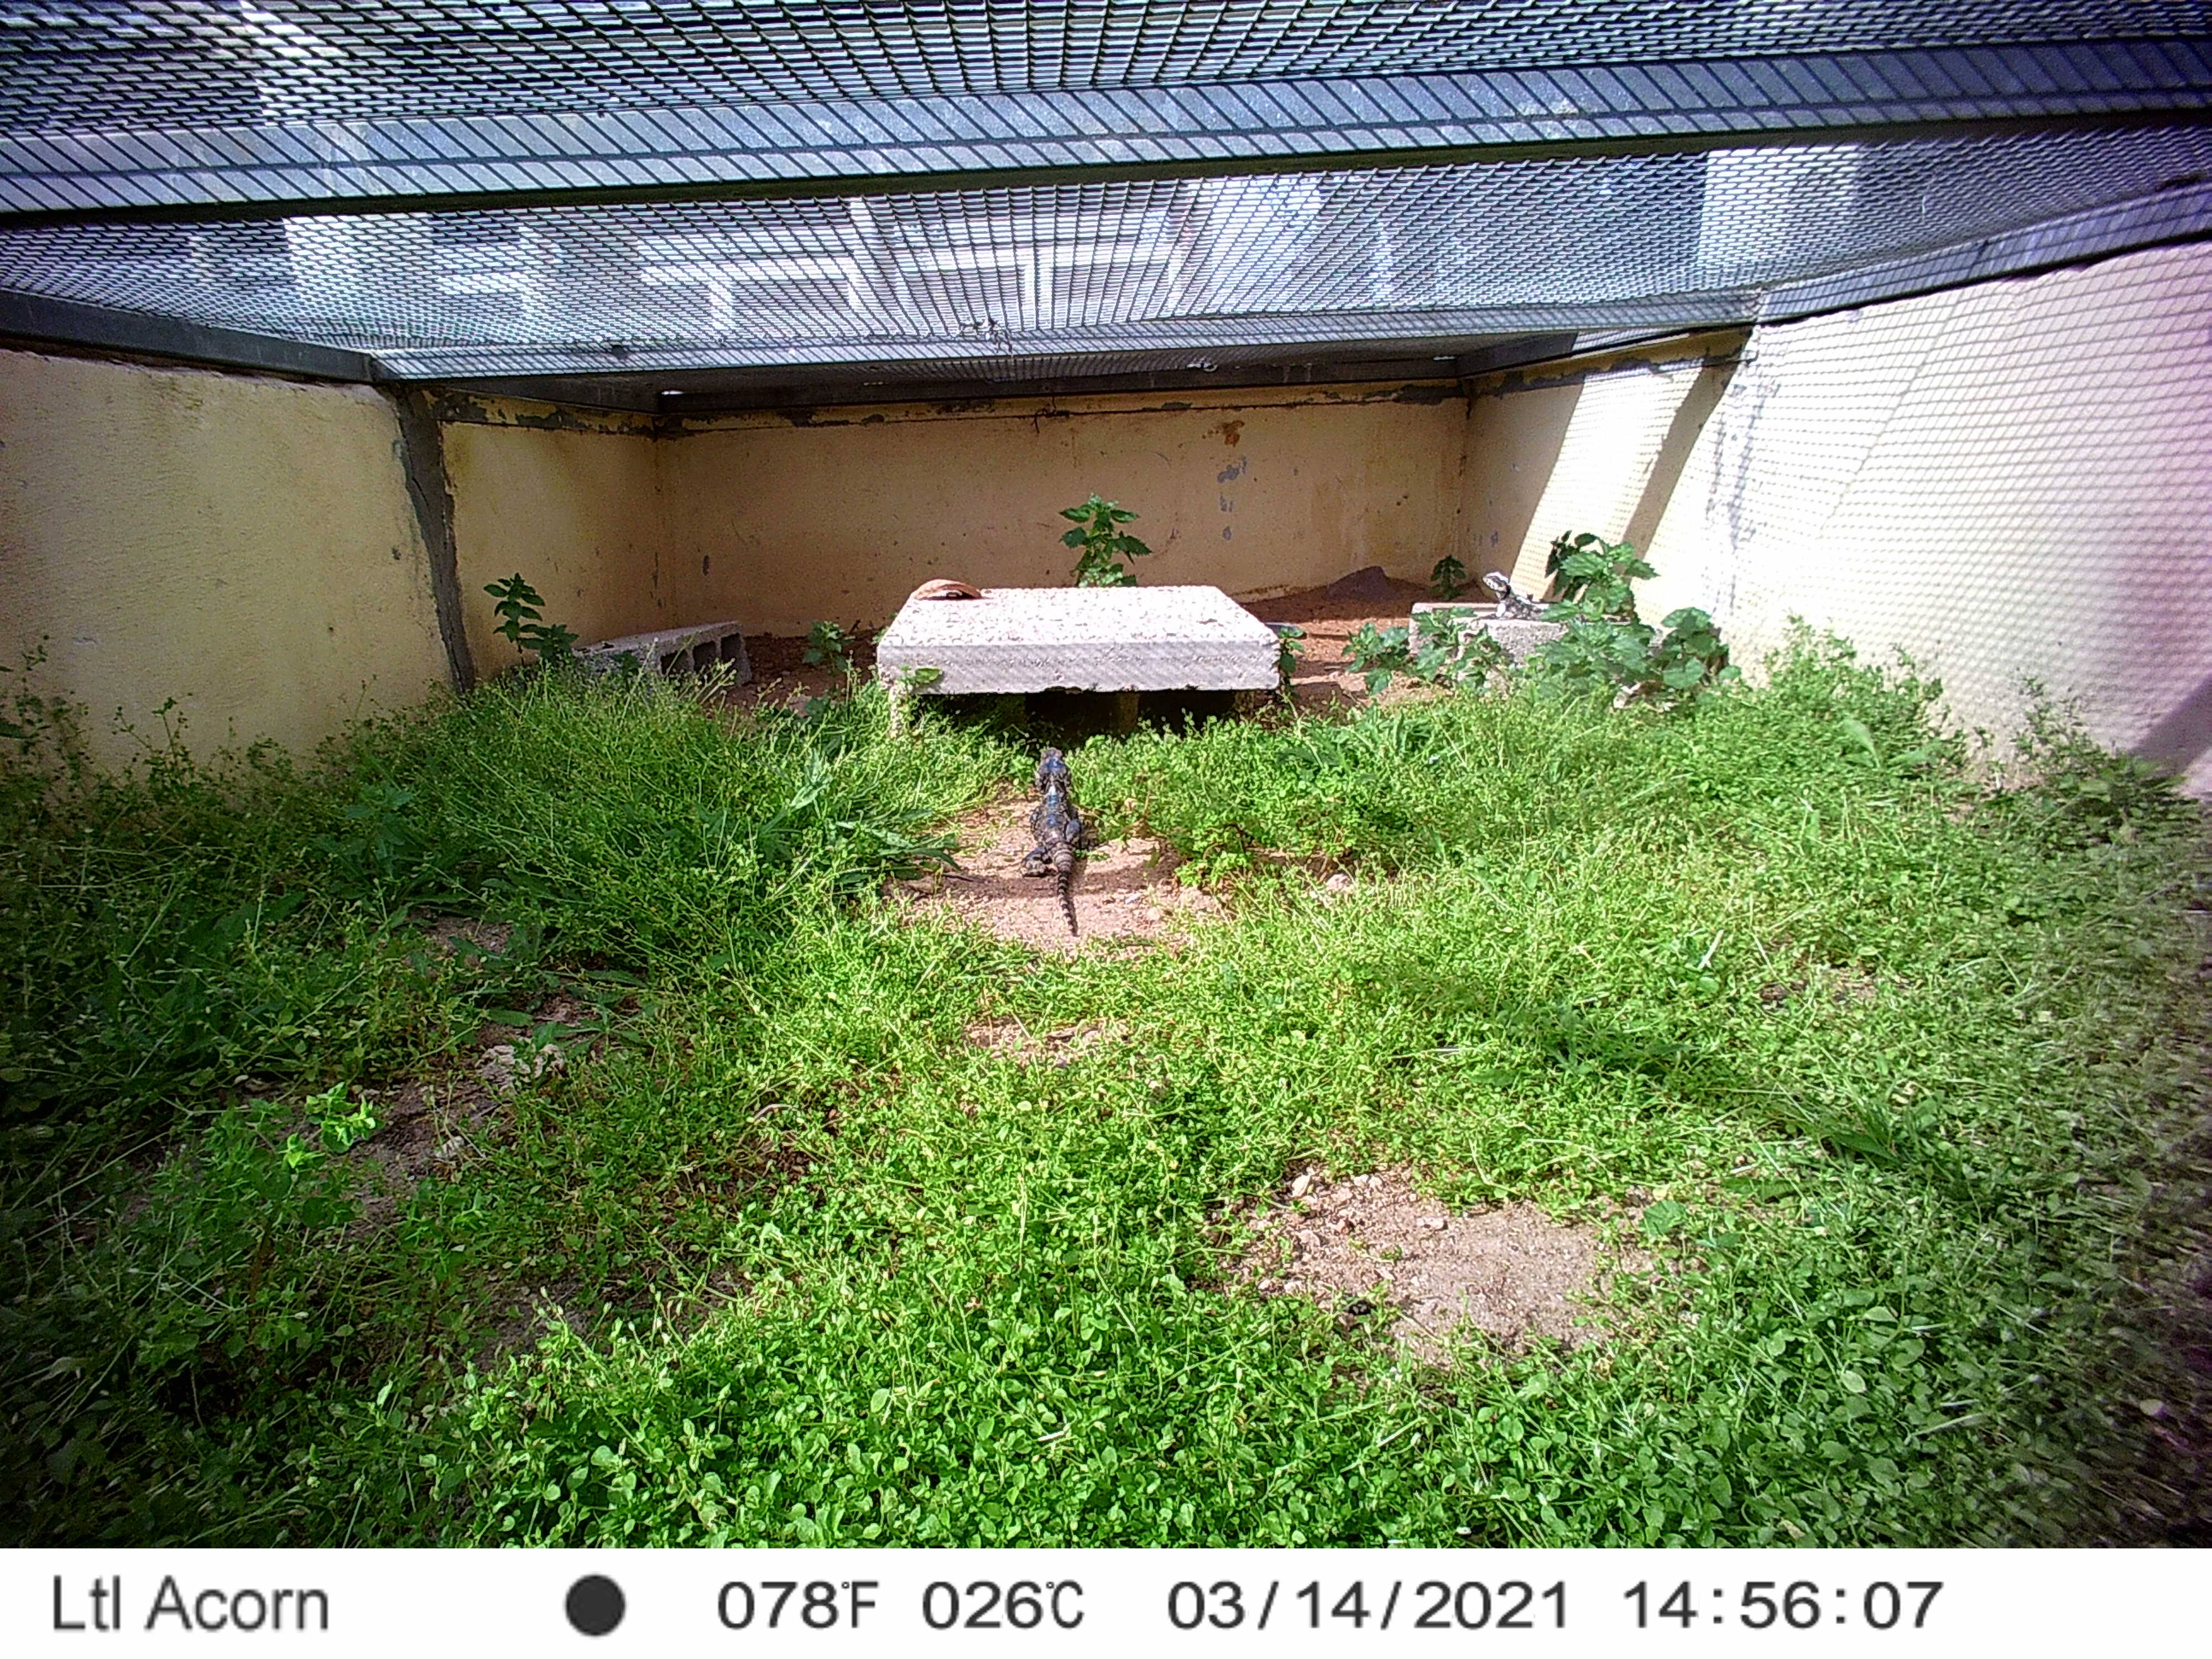lizard: (1021, 746, 1099, 939), (1482, 568, 1632, 627)
